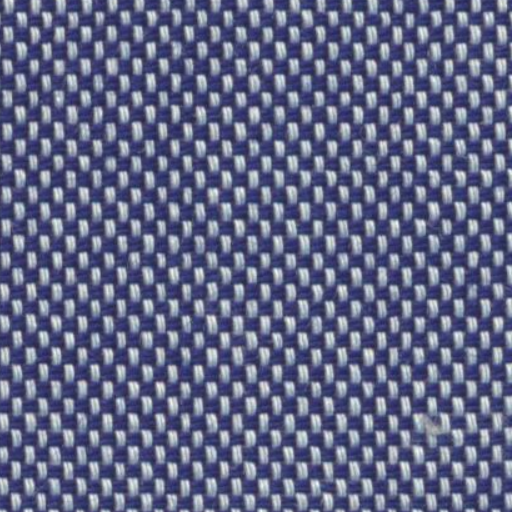MianQiu: (402, 394, 468, 450)
